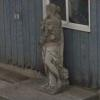Statue: (35, 2, 76, 98)
